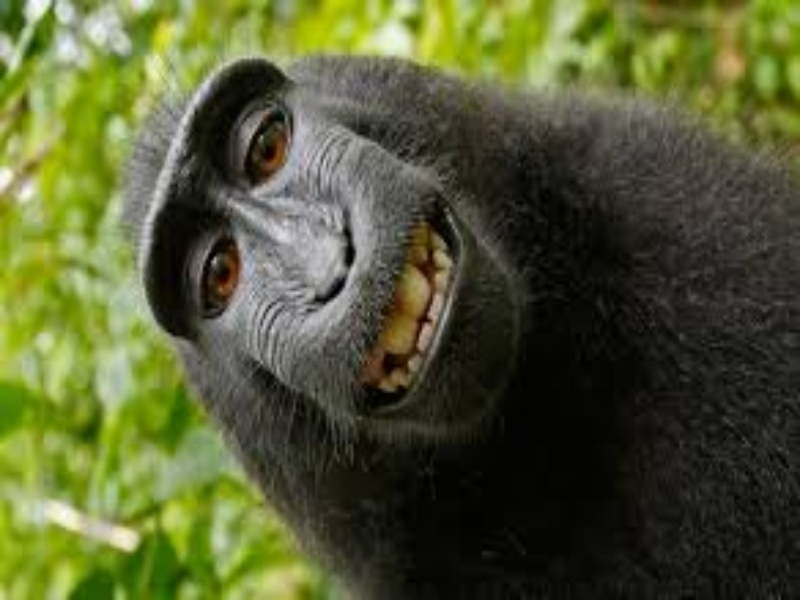monkey: (114, 51, 800, 599)
